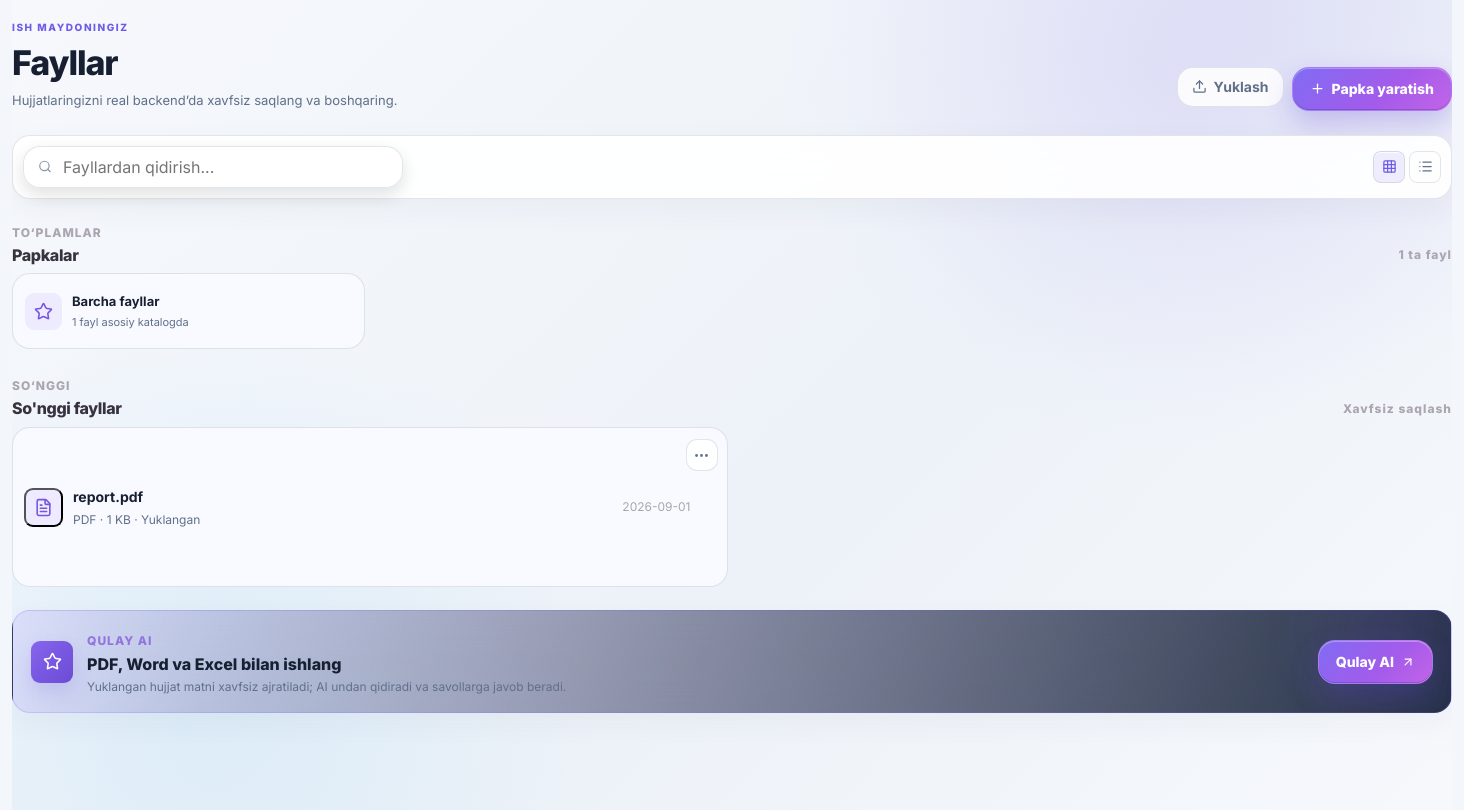
Test case: file menu and folder rendering › keeps the three-dot menu open and exposes all file actions
The width and height of the screenshot is (1464, 810).
Step 1. Click the button named "Fayl amallarini ochish" → coordinates (702, 455), box [686,439,718,471]
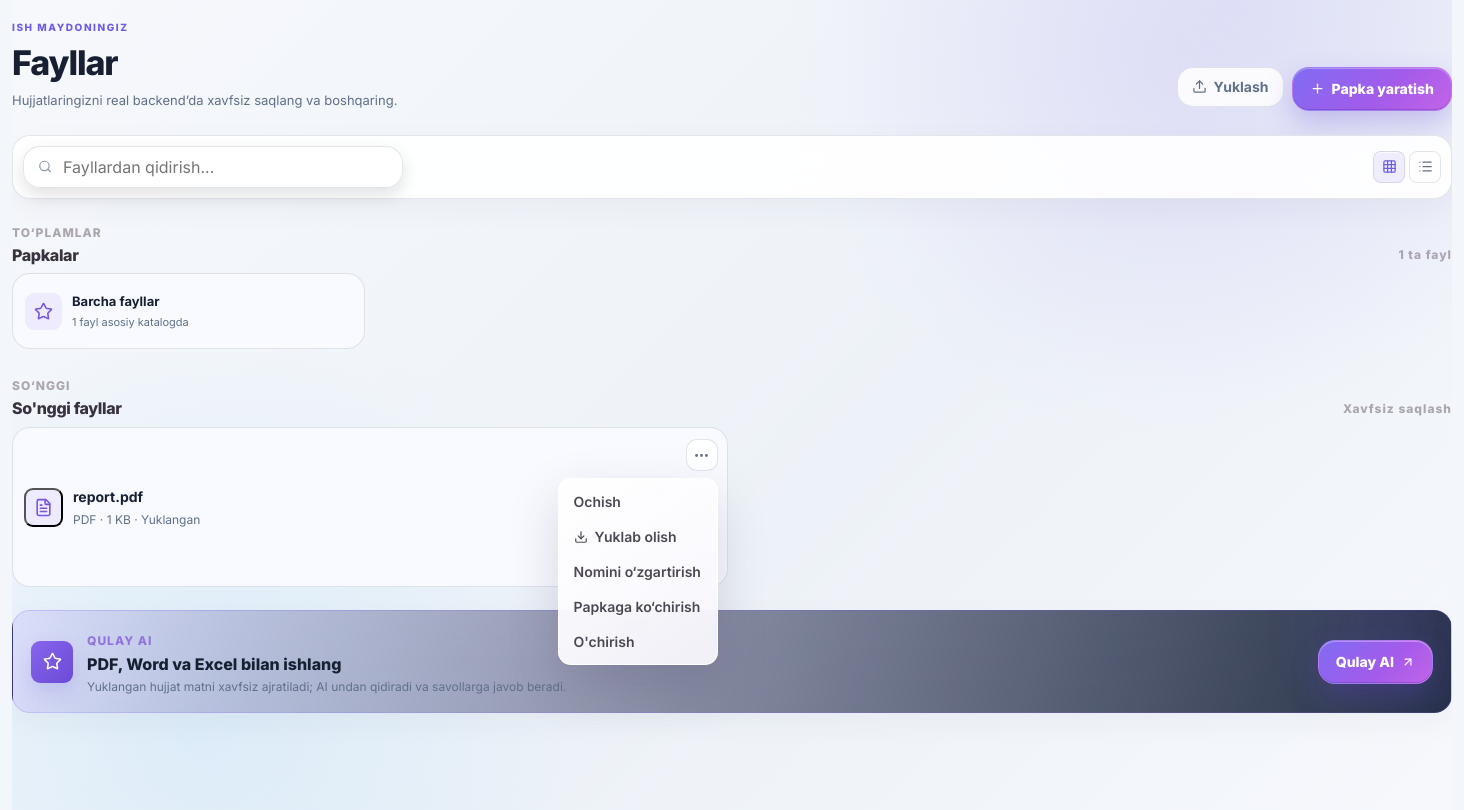
Check: the button "Ochish" is shown, box [564,484,712,519]
Check: the button "Yuklab olish" is shown, box [564,519,712,554]
Check: the button "Nomini o‘zgartirish" is shown, box [564,554,712,589]
